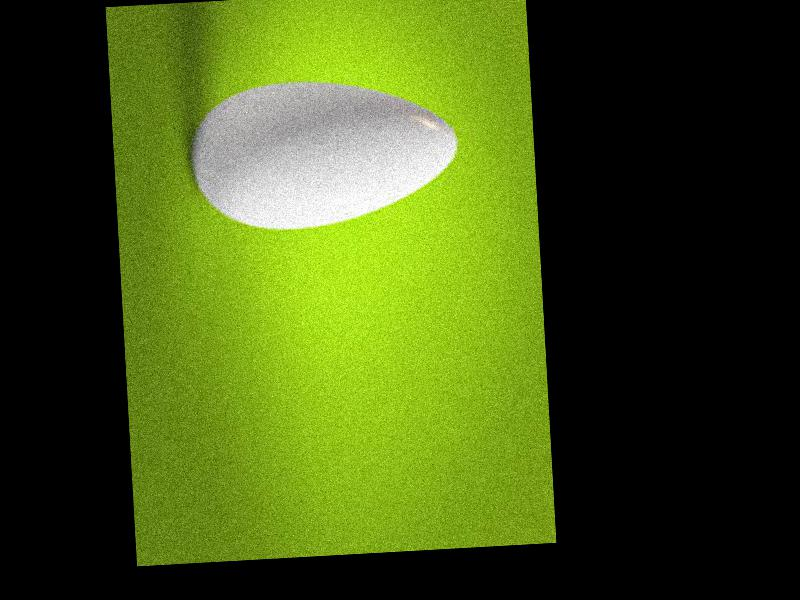Eggs: (189, 73, 465, 234)
